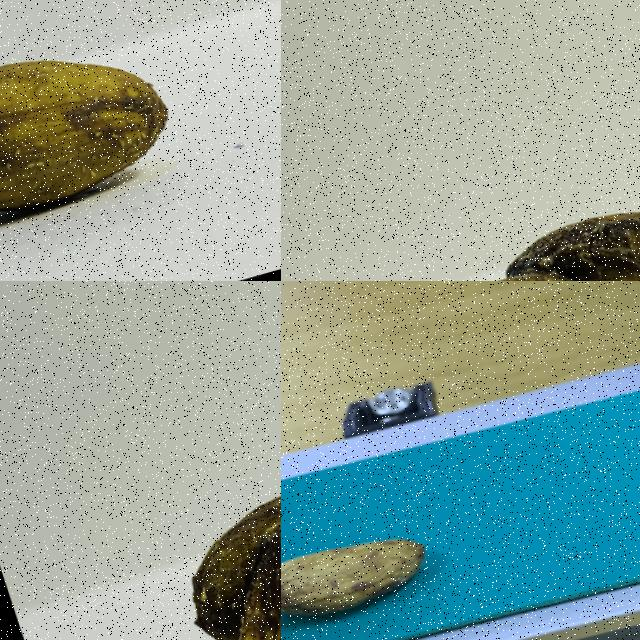Agglomerated_cocoabeans: (50, 383, 280, 639), (311, 111, 639, 280)
Fine_cocoabeans: (0, 0, 280, 280), (281, 497, 480, 639)
